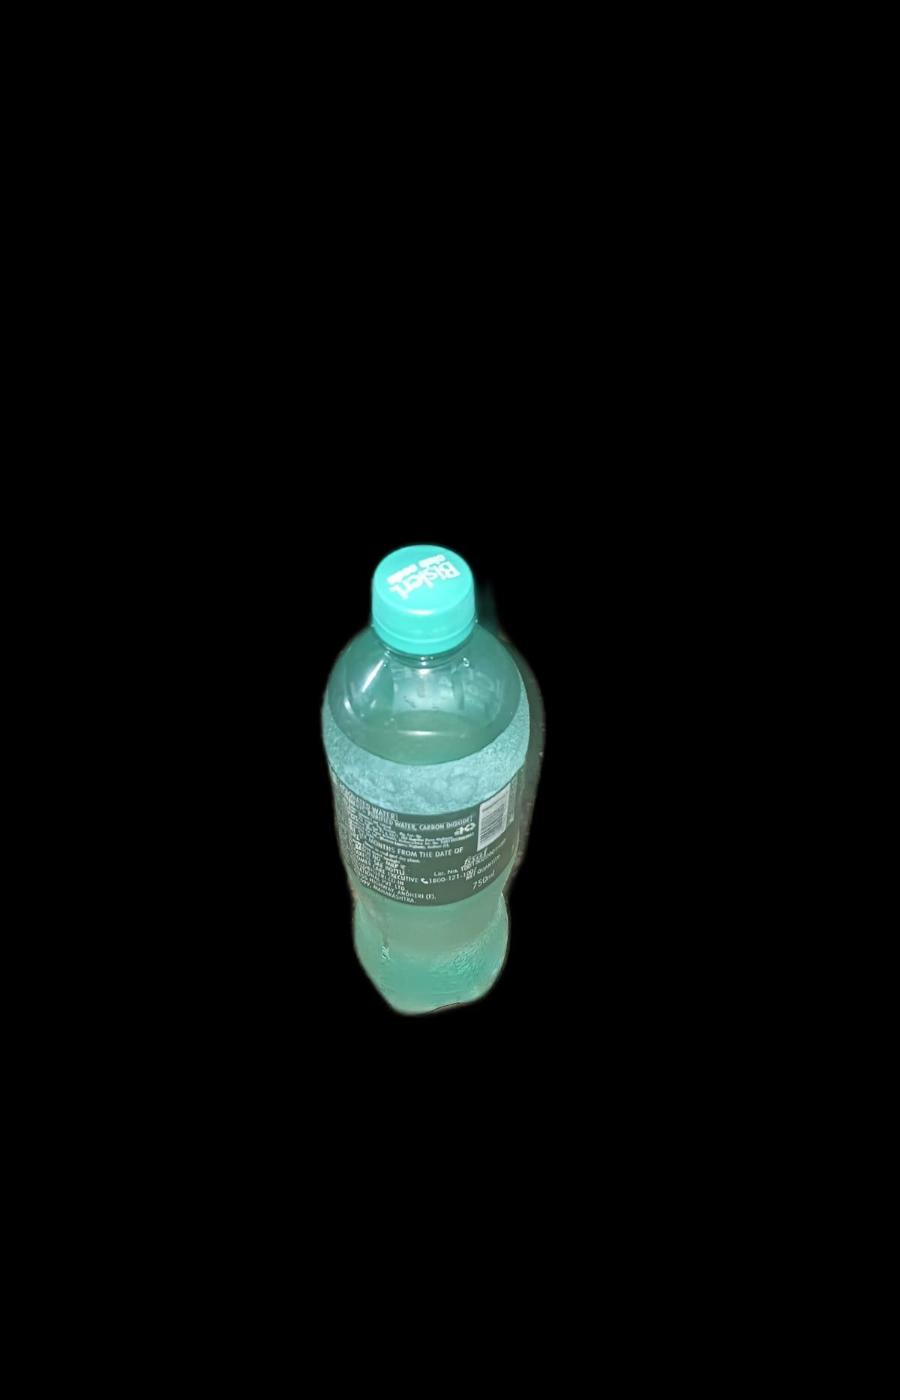Bisleri Club Soda - 750 ml: (307, 528, 539, 1016)
